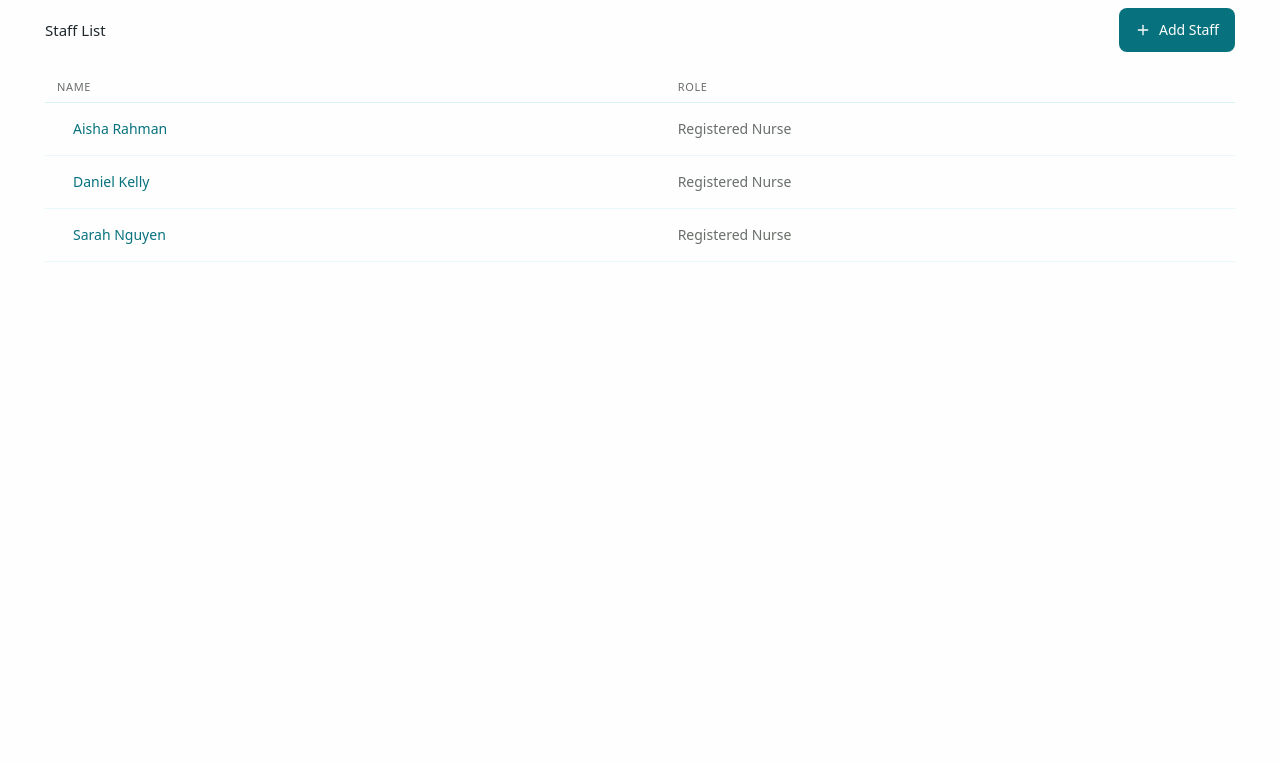
it: [ADM-08][AC-04] the carer's Clients list › [ADM-08][AC-04] shows only the selected carer's clients, by full name, each with a Remove button
Click the button with aria-label "Edit Aisha Rahman".
click(120, 129)  # box [57,107,183,151]
(page scrolled)
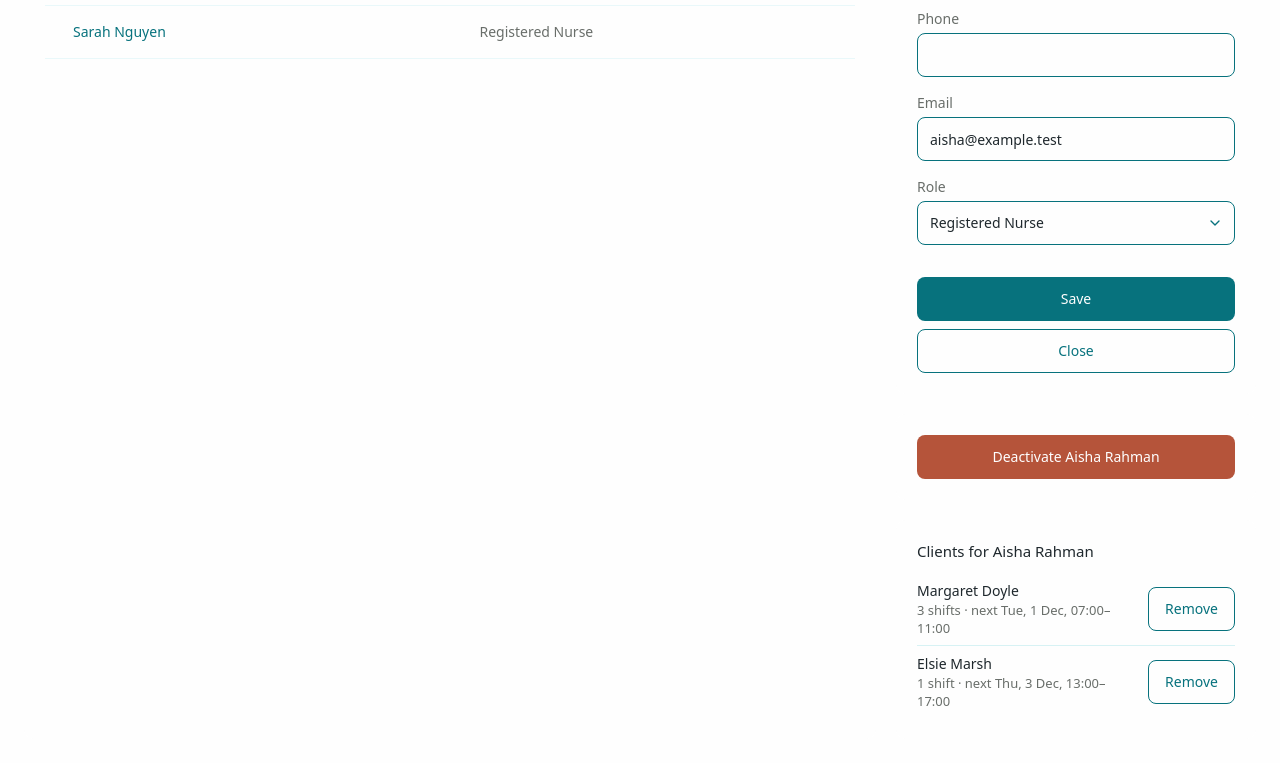
Expected: the text "Margaret Doyle" is shown, [917,581,1019,600]
Expected: the text "Elsie Marsh" is shown, [917,654,992,673]
Expected: the button with aria-label "Remove Margaret Doyle from Aisha Rahman" is shown, [1148,587,1235,631]
